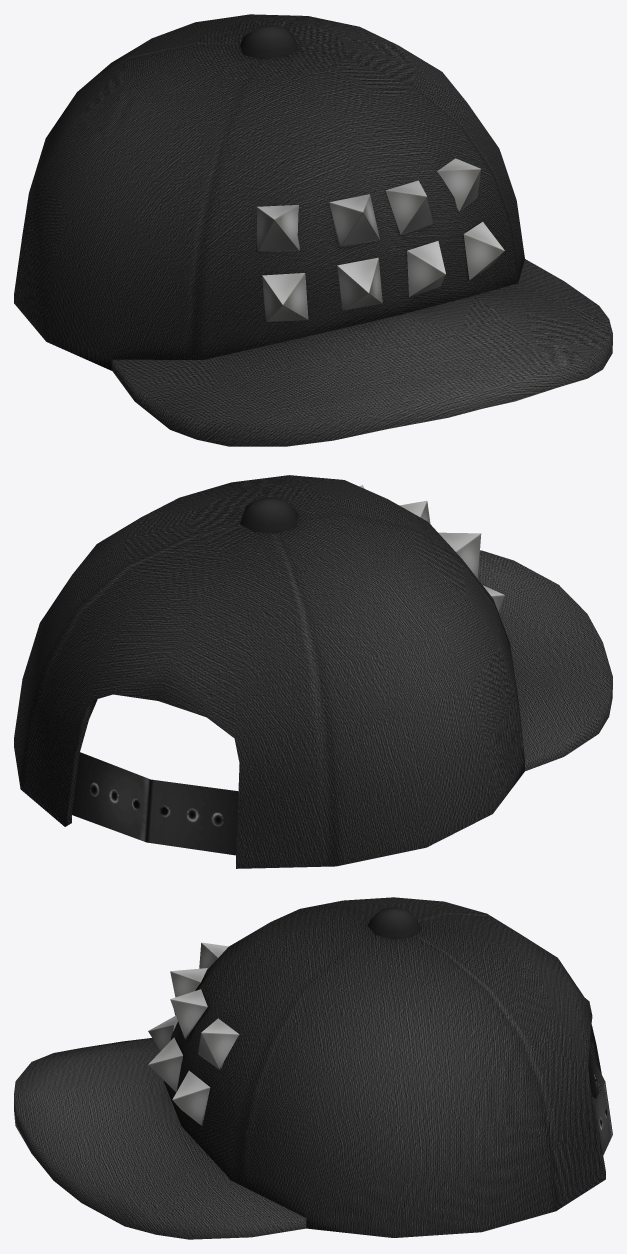
The model's file is Cap_B.fbx.
3 views of the same model, one above another, from view 1: azimuth 30°, elevation 25°; view 2: azimuth 150°, elevation 25°; view 3: azimuth 270°, elevation 25° (orthographic). The views are drawn at different scales.
Parts seen in each view (by area): view 1: Cap_B; view 2: Cap_B; view 3: Cap_B.
Part boxes in pixels (box(x1,y1,x2,y2)): Cap_B: box(14, 14, 612, 446); Cap_B: box(14, 475, 612, 868); Cap_B: box(14, 897, 612, 1239).
Bounding box in the file's own units: 99.48 × 56.13 × 130.
